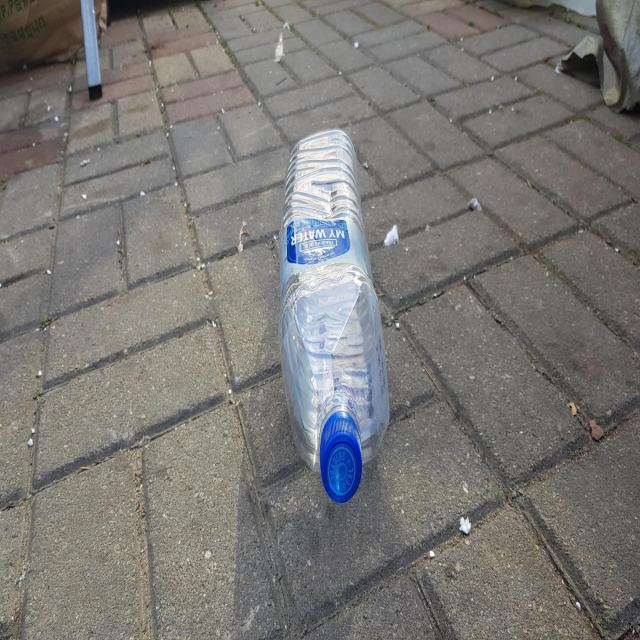plastic: (280, 127, 390, 502)
